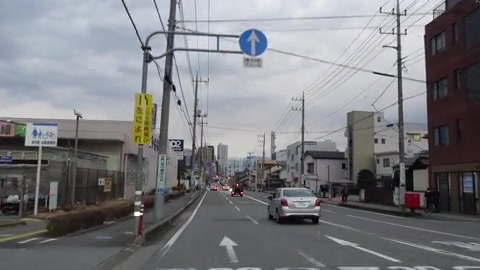traffic_sign: (237, 26, 271, 60), (211, 161, 218, 168), (205, 160, 212, 166)
